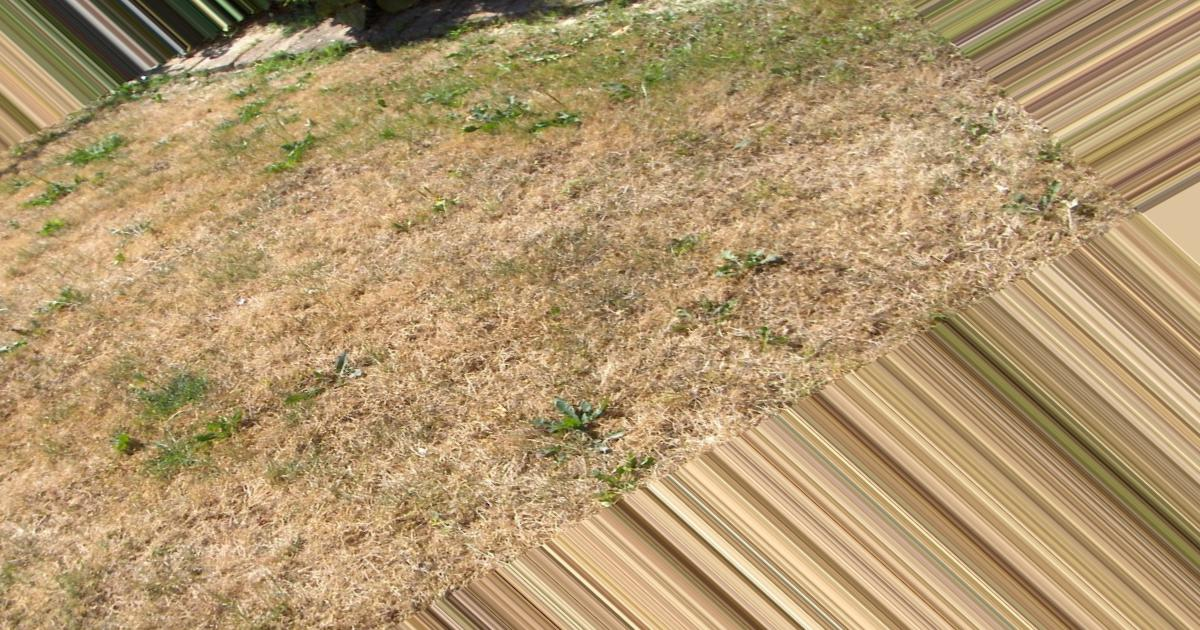patch: (612, 155, 1001, 330), (251, 399, 592, 531), (168, 189, 502, 320), (21, 410, 217, 589), (41, 200, 139, 287)
